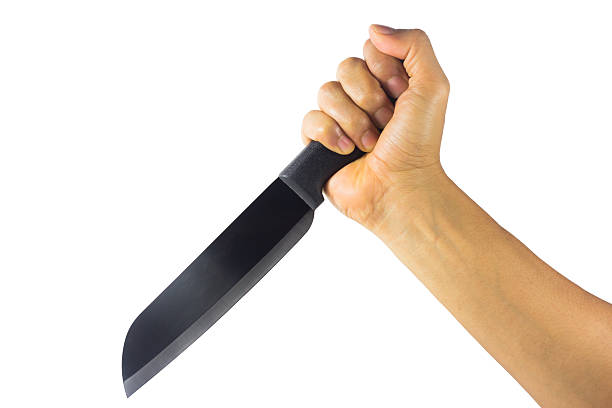knife: (120, 138, 365, 398)
